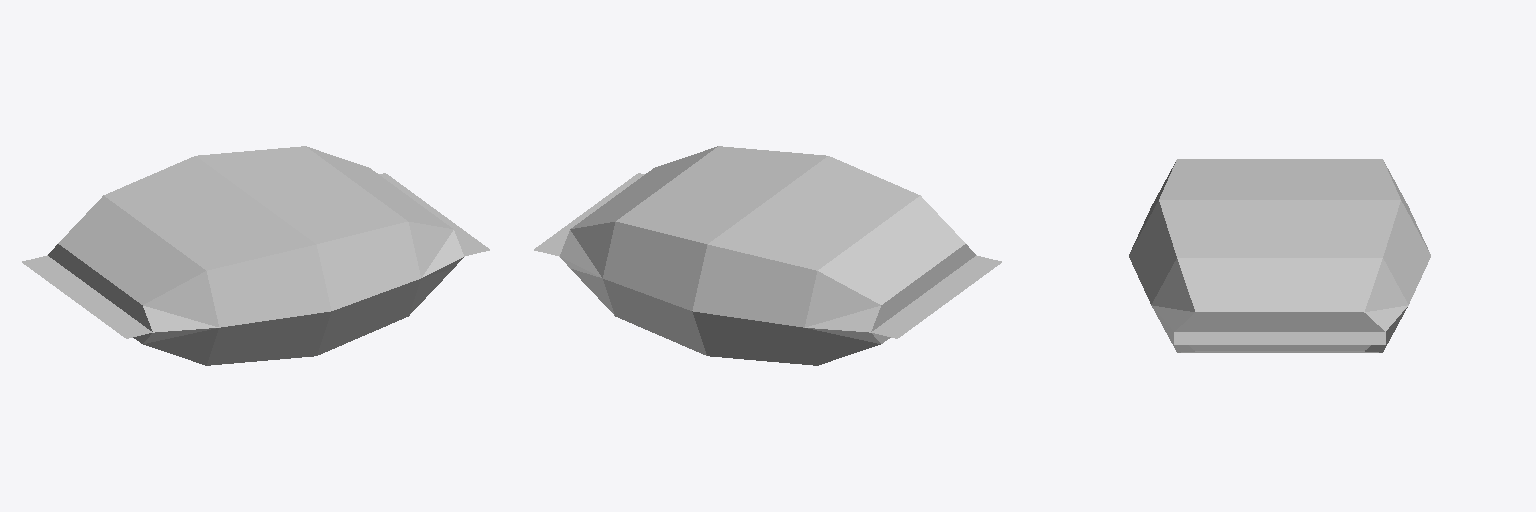
The model's file is bag-flat.obj.
3 views of the same model, side by side, from view 1: azimuth 30°, elevation 25°; view 2: azimuth 150°, elevation 25°; view 3: azimuth 270°, elevation 25° (orthographic).
Parts seen in each view (by area): view 1: bag-flat; view 2: bag-flat; view 3: bag-flat.
Part boxes in pixels (x1,y1,x2,y2): bag-flat: (22,146,489,365); bag-flat: (534,146,1001,365); bag-flat: (1129,159,1430,352).
Bounding box in the file's own units: 0.65 × 0.1905 × 0.4675.